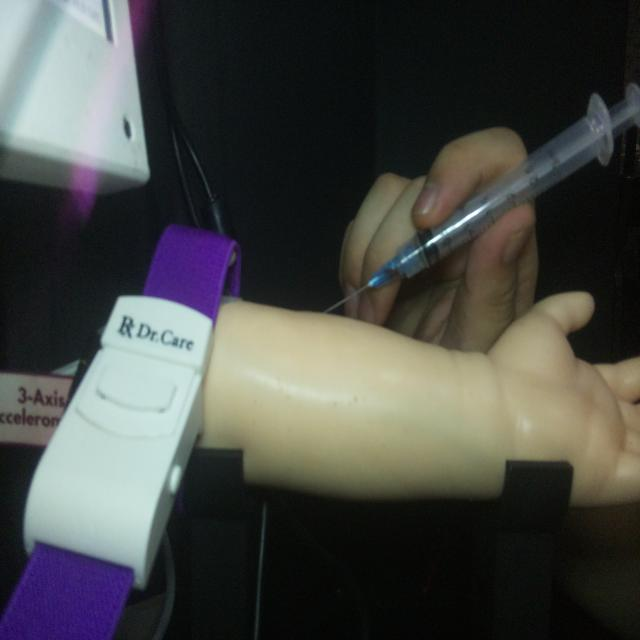23 degrees: (327, 87, 638, 312)
